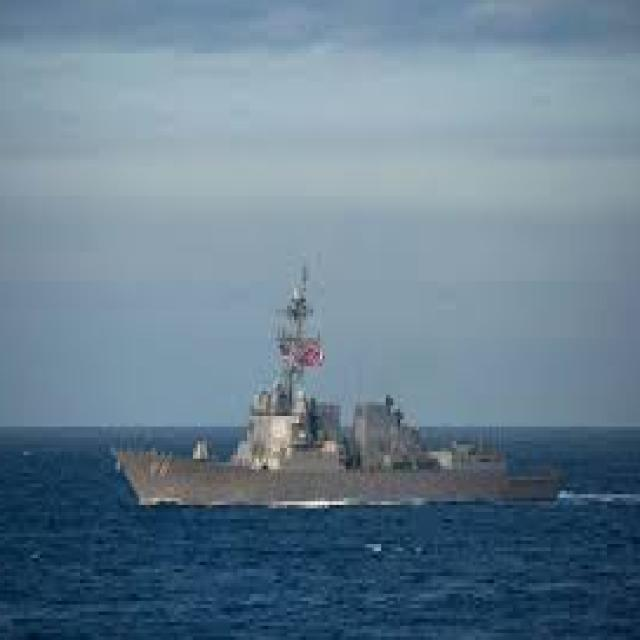navalvessels: (115, 278, 567, 506)
